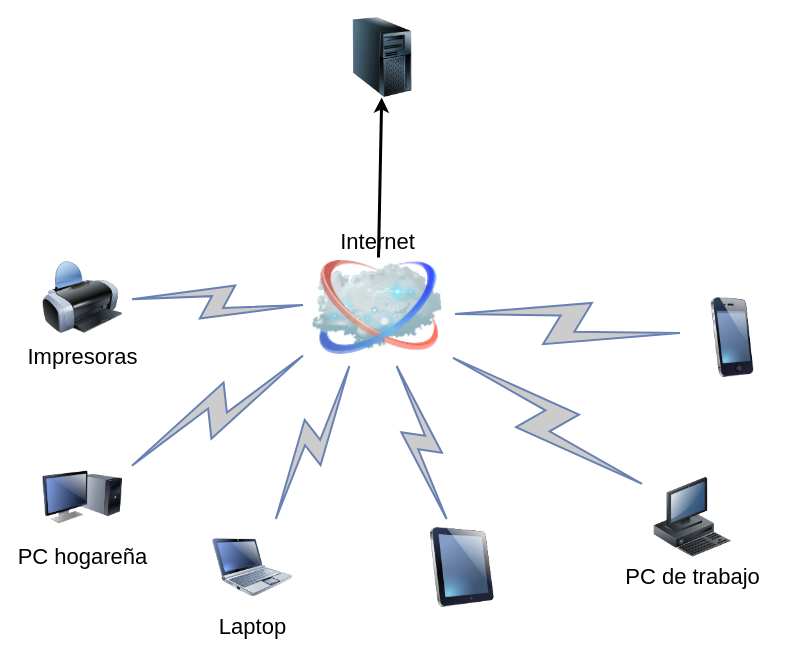
Some shapes in this 789 by 657 pixel diagram are drawn without their labels. Each missing label, with the centre of its shape:
"Mobile" belongs at [732,337].
"Tablet" belongs at [462,567].
